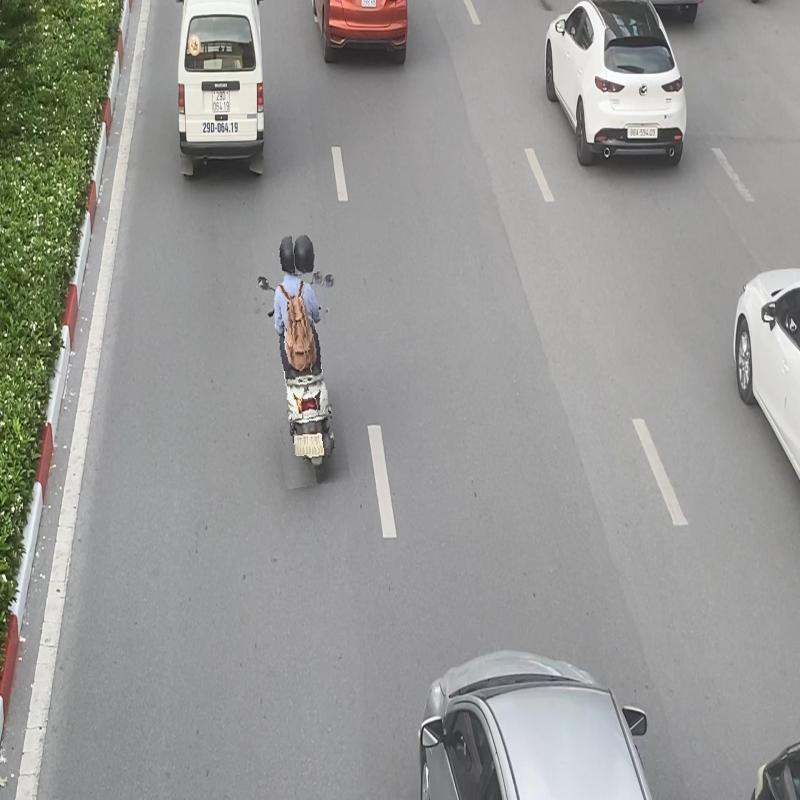helmet: (293, 234, 316, 274)
licenseplate: (294, 434, 312, 457)
motorcyclist: (260, 231, 343, 488)
